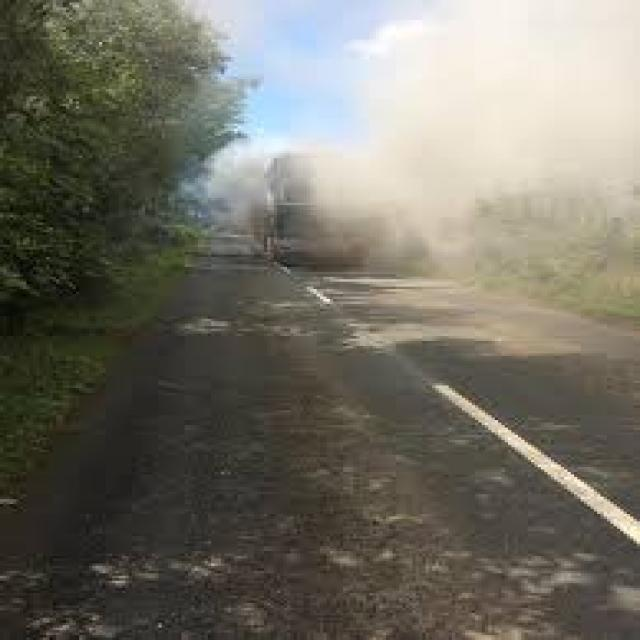Smoke: (201, 0, 638, 286)
